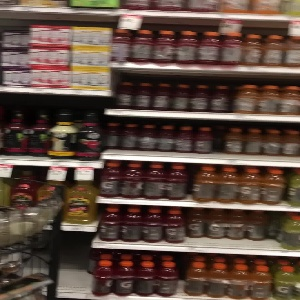void: (58, 227, 91, 296)
